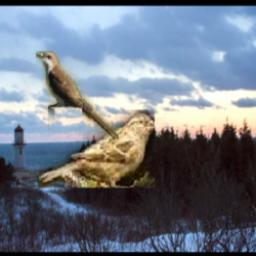Cuckoo: (37, 51, 120, 140)
Sparrow: (40, 111, 156, 189)
